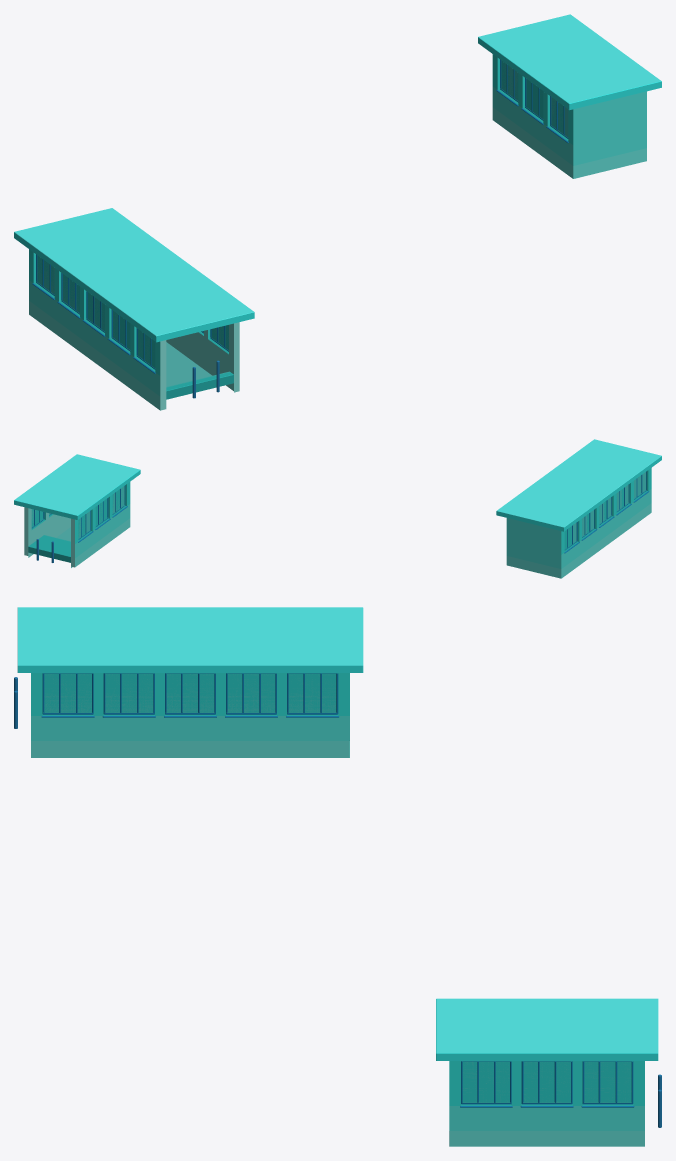
The model's file is calevoet.glb.
3 renders of one model, top to bottom at view 1: azimuth 30°, elevation 25°; view 2: azimuth 150°, elevation 25°; view 3: azimuth 270°, elevation 25°, orthographic. The views are drawn at different scales.
Parts seen in each view (by area): view 1: Underpass_lod0, Underpass_throat; view 2: Underpass_lod0, Underpass_throat; view 3: Underpass_lod0, Underpass_throat.
Part boxes in pixels (x1,y1,x2,y2): Underpass_lod0: (14, 14, 661, 410); Underpass_throat: (37, 63, 568, 390); Underpass_lod0: (14, 439, 661, 578); Underpass_throat: (28, 472, 645, 567); Underpass_lod0: (14, 607, 661, 1146); Underpass_throat: (44, 673, 631, 1102).
Size of what is drawn, in the model's own units: 28.47 by 4.87 by 19.41.
